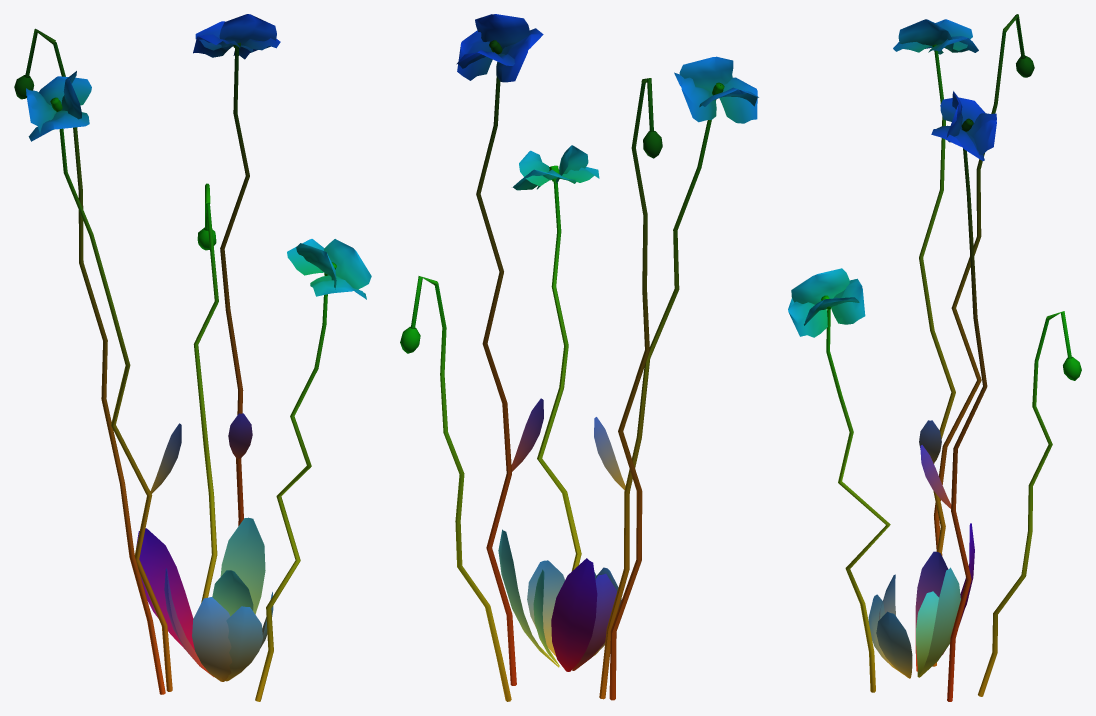
The model's file is SM_Flower_Poppy_B.fbx.
3 renders of one model, left to right at view 1: azimuth 30°, elevation 25°; view 2: azimuth 150°, elevation 25°; view 3: azimuth 270°, elevation 25°, orthographic. The views are drawn at different scales.
Parts seen in each view (by area): view 1: SM_Flower_Poppy_B; view 2: SM_Flower_Poppy_B; view 3: SM_Flower_Poppy_B.
Boxes of the visible parts, x1=… form: SM_Flower_Poppy_B: x1=14, y1=14, x2=371, y2=701; SM_Flower_Poppy_B: x1=400, y1=14, x2=758, y2=701; SM_Flower_Poppy_B: x1=788, y1=14, x2=1081, y2=701.
Size of the model in its own units: 0.2786 by 0.6232 by 0.2718.
